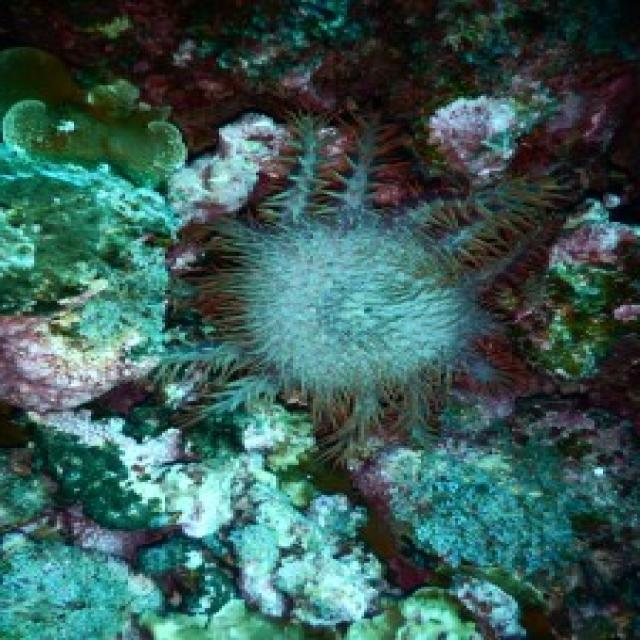Bleached: (28, 393, 388, 626), (1, 163, 180, 389), (364, 439, 629, 581), (1, 530, 169, 640), (174, 118, 295, 217), (427, 86, 533, 195), (564, 197, 640, 259)
Healthy: (26, 80, 174, 166)
